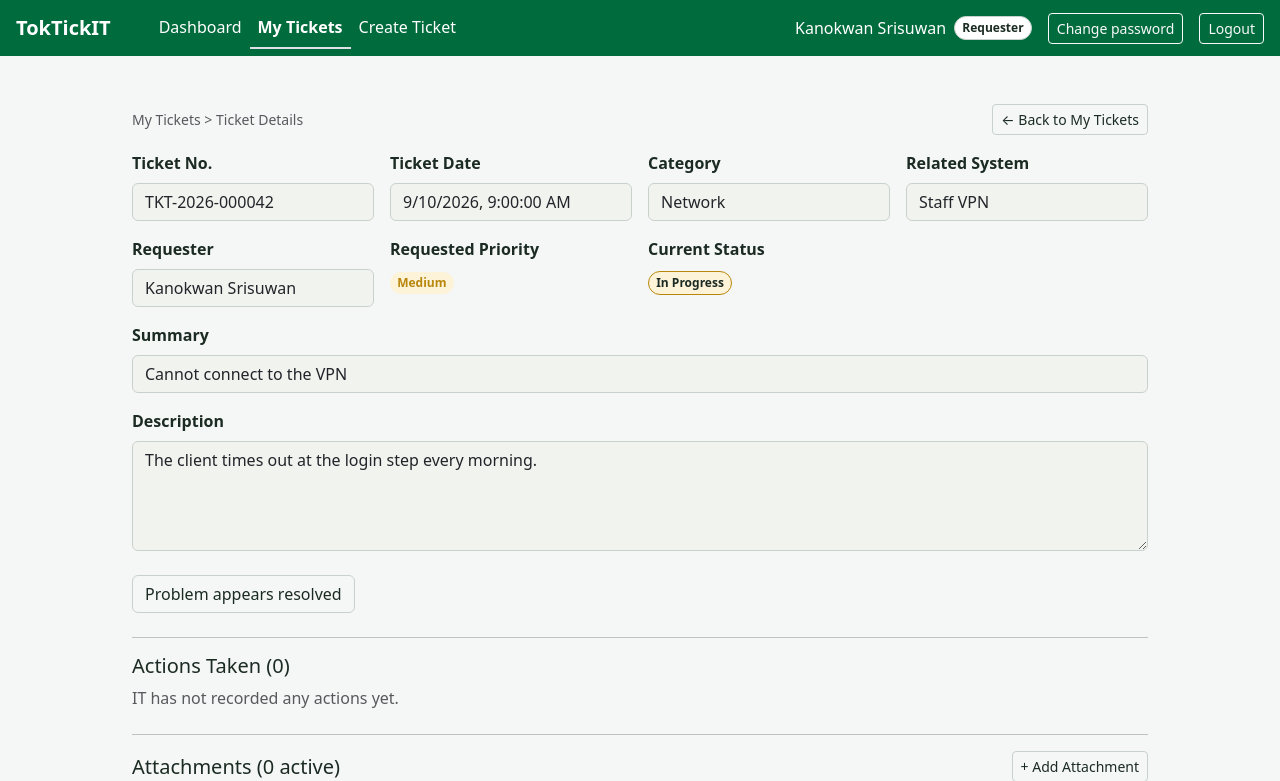
Test: Requester Ticket Detail: problem appears resolved › says the Ticket is closed when the server reports it became terminal in the meantime
expect the field labelled "Ticket No." is shown: met, box [132,183,374,221]
What coordinates should you click on to do the following:
click the button "Problem appears resolved"
I would click on:
 (243, 594)
Its box is [132,575,355,613].
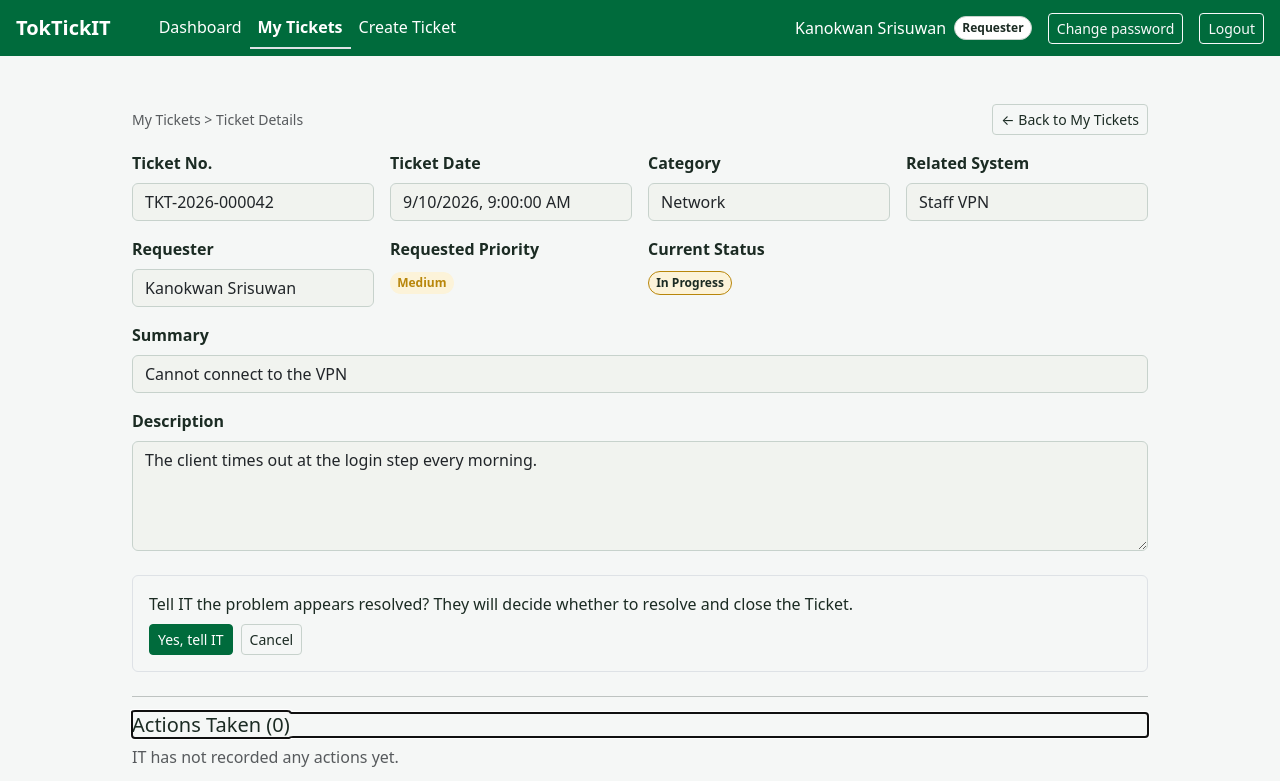
What coordinates should you click on to do the following:
click the button "Yes, tell IT"
I would click on:
 (191, 640)
Its box is [149,624,233,655].
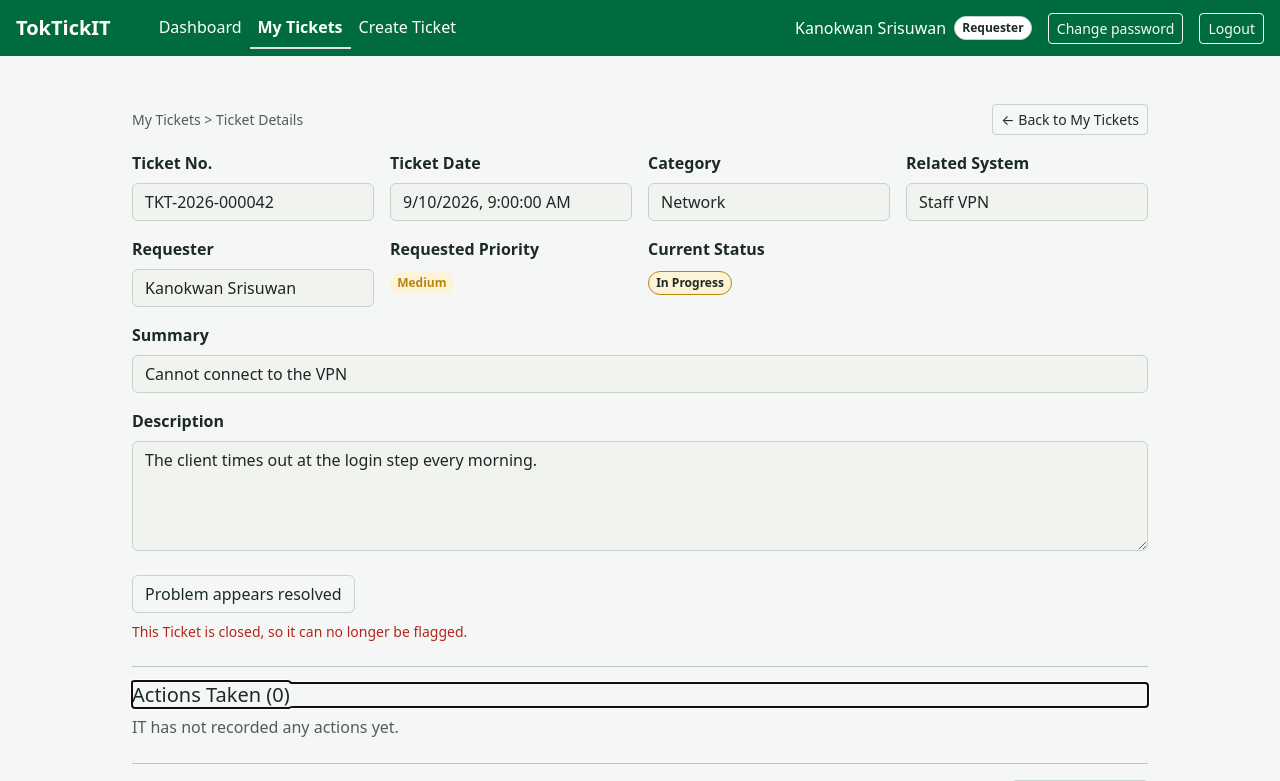
expect the message reads "This Ticket is closed, so it can no longer be flagged.": met, box [132,622,467,641]
